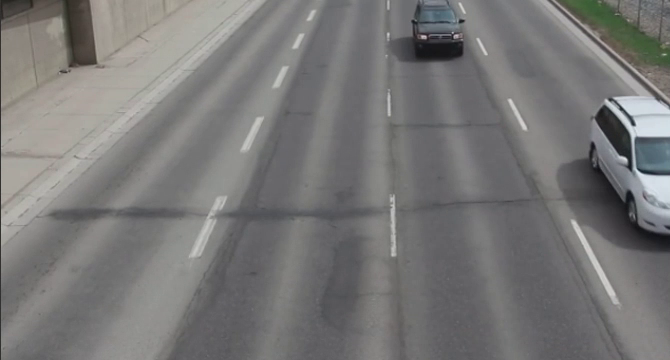car: (585, 91, 670, 236), (409, 1, 469, 61)
